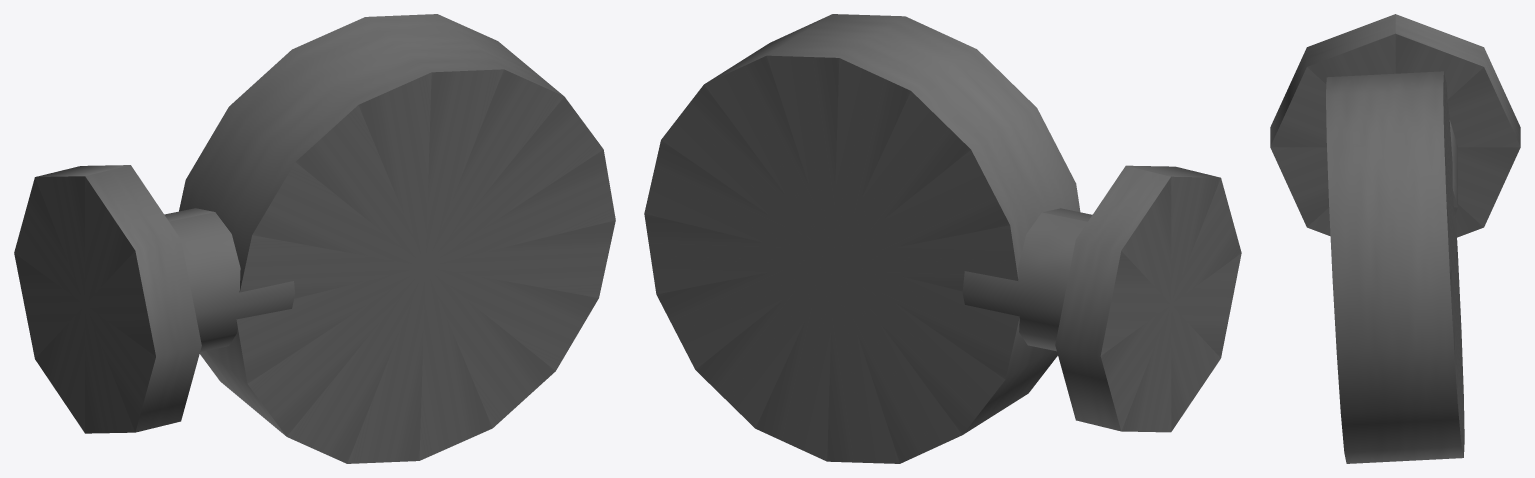
The model's file is mastarmcurve_6x2_c7_west.obj.
3 renders of one model, left to right at view 1: azimuth 30°, elevation 25°; view 2: azimuth 150°, elevation 25°; view 3: azimuth 270°, elevation 25°, orthographic. The views are drawn at different scales.
Visible parts, largest first — view 1: mastarm_6x2_c7_west; view 2: mastarm_6x2_c7_west; view 3: mastarm_6x2_c7_west.
Part boxes in pixels (<box>): mastarm_6x2_c7_west: <box>14,14,615,463</box>; mastarm_6x2_c7_west: <box>644,14,1241,463</box>; mastarm_6x2_c7_west: <box>1270,14,1520,463</box>.
Bounding box in the file's own units: 0.8088 × 0.6282 × 0.4.
